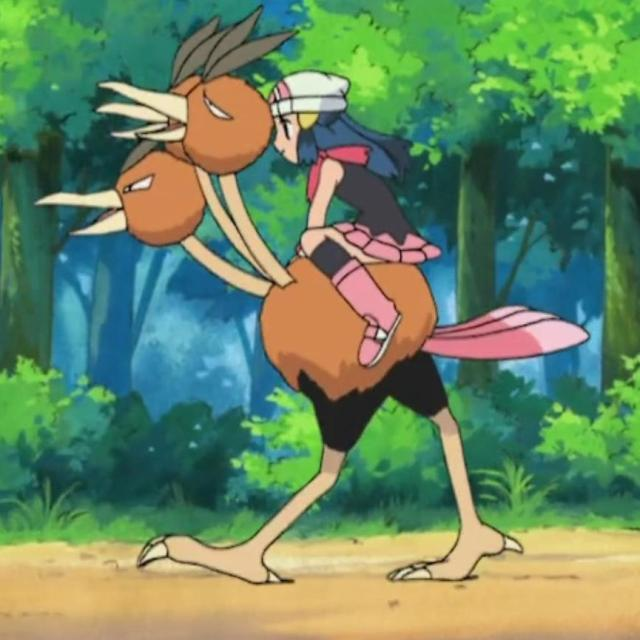Dodrio: (83, 62, 499, 575)
